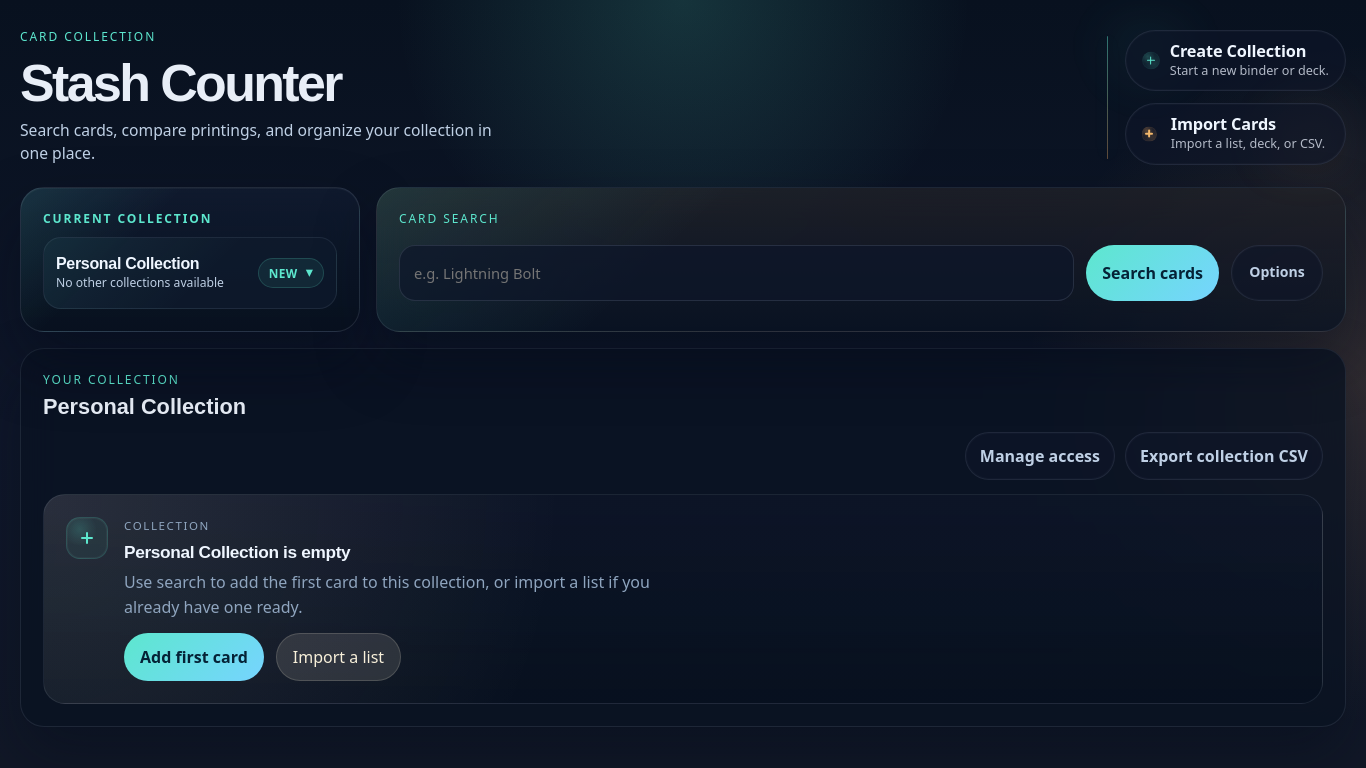
App › opens an import menu above search with URL, text, and CSV options
What coordinates should you click on to do the following:
click the button "Import Cards"
I would click on:
 (1235, 134)
Its box is [1125,103,1346,165].
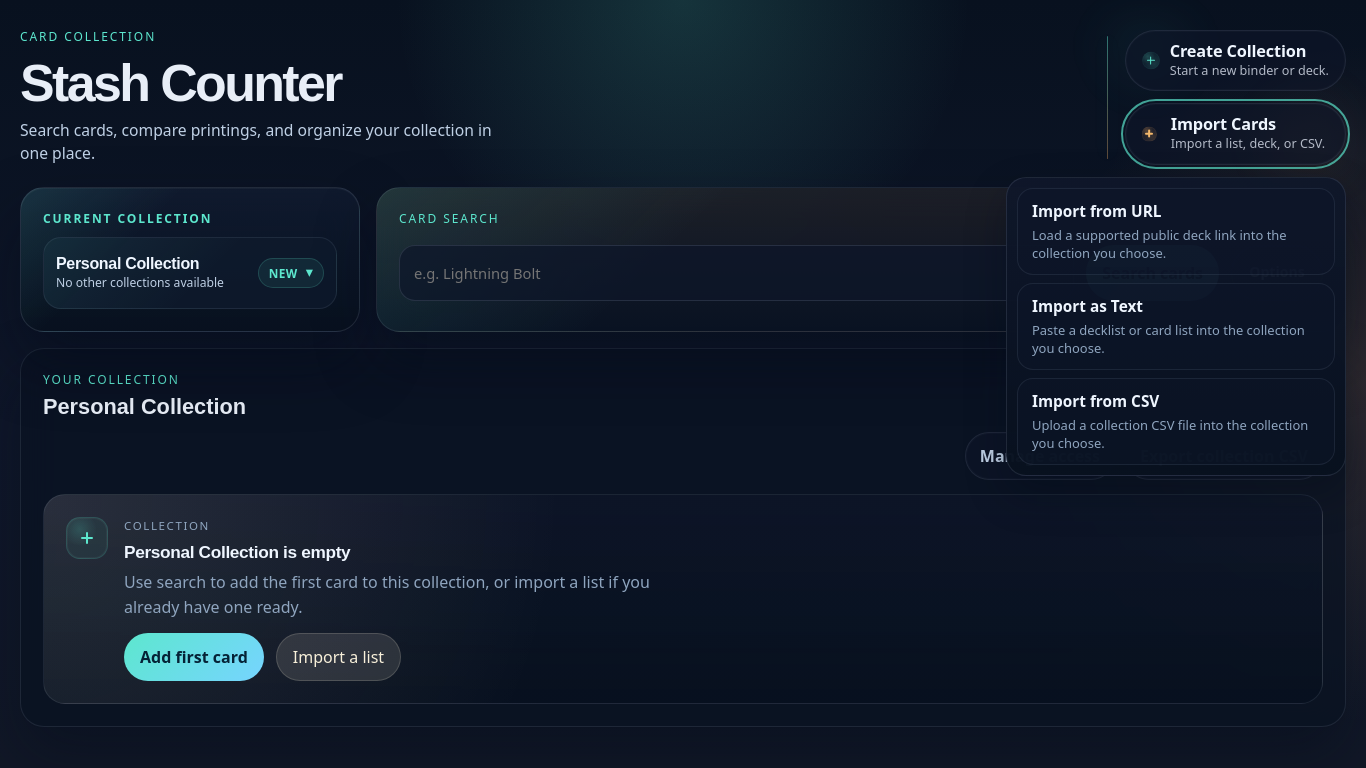
expect the menu item "Import from URL" is shown: met, box [1017,188,1335,275]
expect the menu item "Import as Text" is shown: met, box [1017,283,1335,370]
expect the menu item "Import from CSV" is shown: met, box [1017,378,1335,466]
